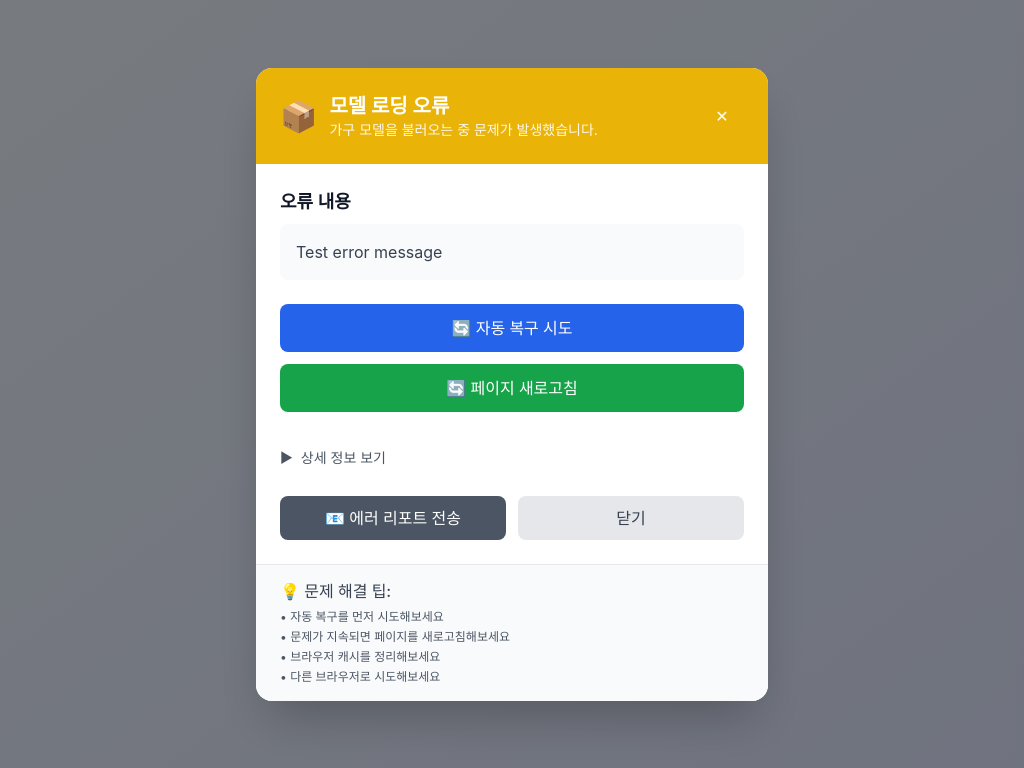
Test case: ErrorModal › handles auto recovery attempt
The width and height of the screenshot is (1024, 768).
Click the button "🔄 자동 복구 시도". click: (512, 328)
box: [280,304,744,352]
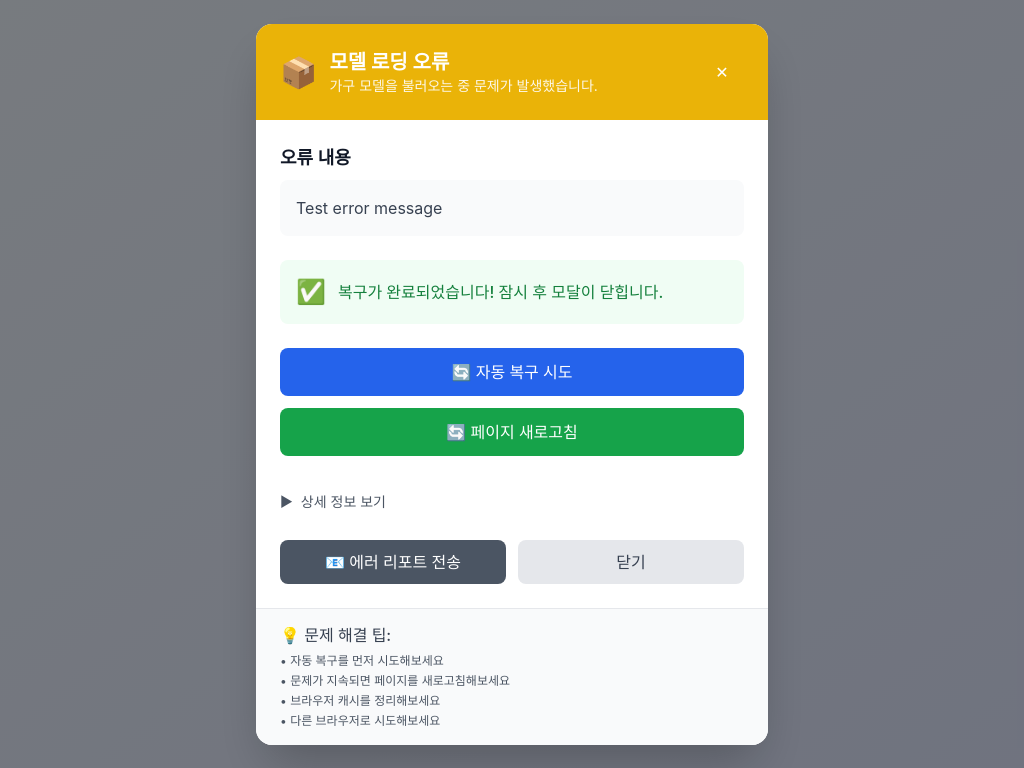
Expected: the text "복구가 완료되었습니다! 잠시 후 모달이 닫힙니다." is shown, [338,280,663,304]
